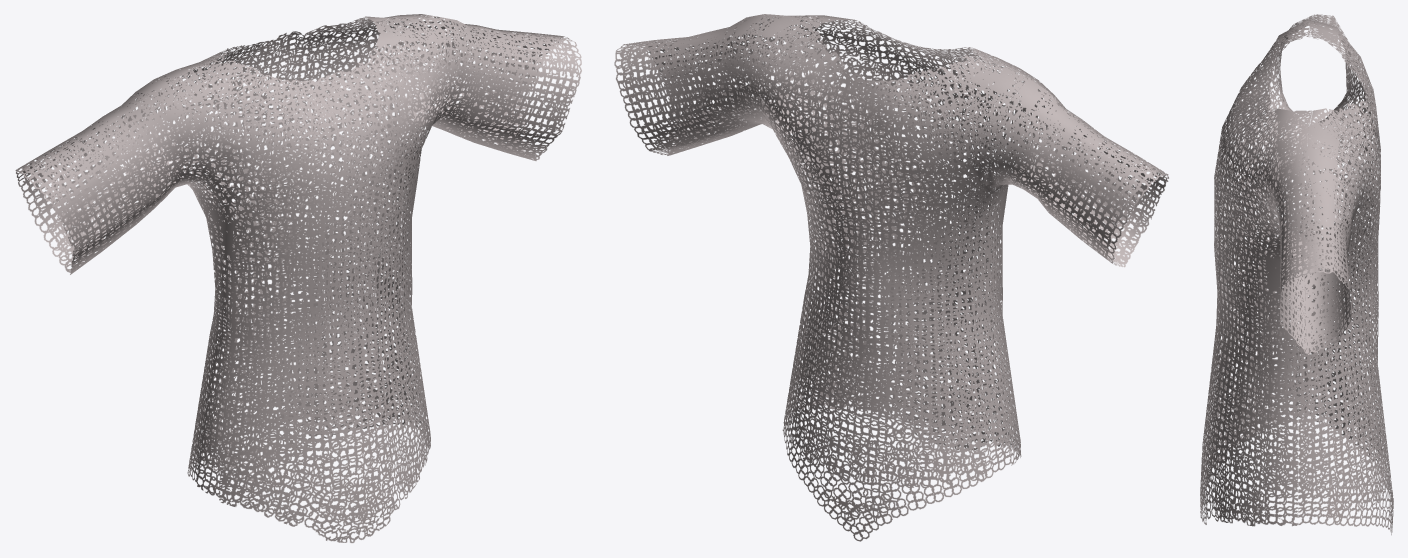
The model's file is armor_hauberk.glb.
3 views of the same model, side by side, from view 1: azimuth 30°, elevation 25°; view 2: azimuth 150°, elevation 25°; view 3: azimuth 270°, elevation 25° (orthographic). The views are drawn at different scales.
Parts seen in each view (by area): view 1: Object_2; view 2: Object_2; view 3: Object_2.
Part boxes in pixels (box(x1,y1,x2,y2)): Object_2: box(15, 14, 581, 543); Object_2: box(614, 14, 1168, 541); Object_2: box(1200, 14, 1393, 535).
Size of the model in its own units: 152 by 127 by 47.75.
Materials: 1 (1 with a texture image).
